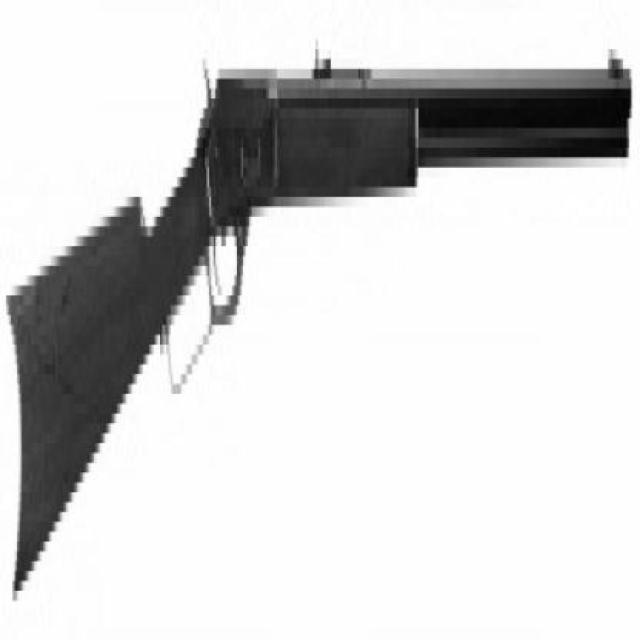weapon: (4, 43, 634, 602)
